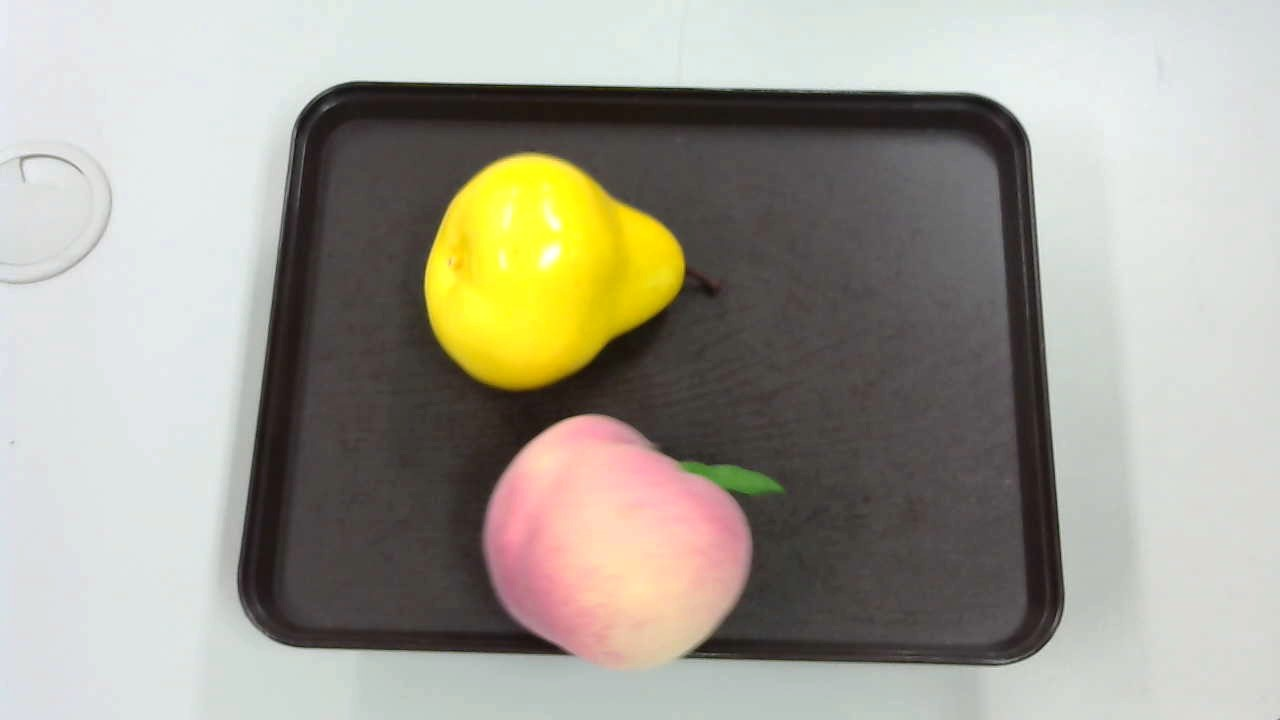peach: (468, 411, 780, 669)
yellow pear: (419, 148, 726, 386)
